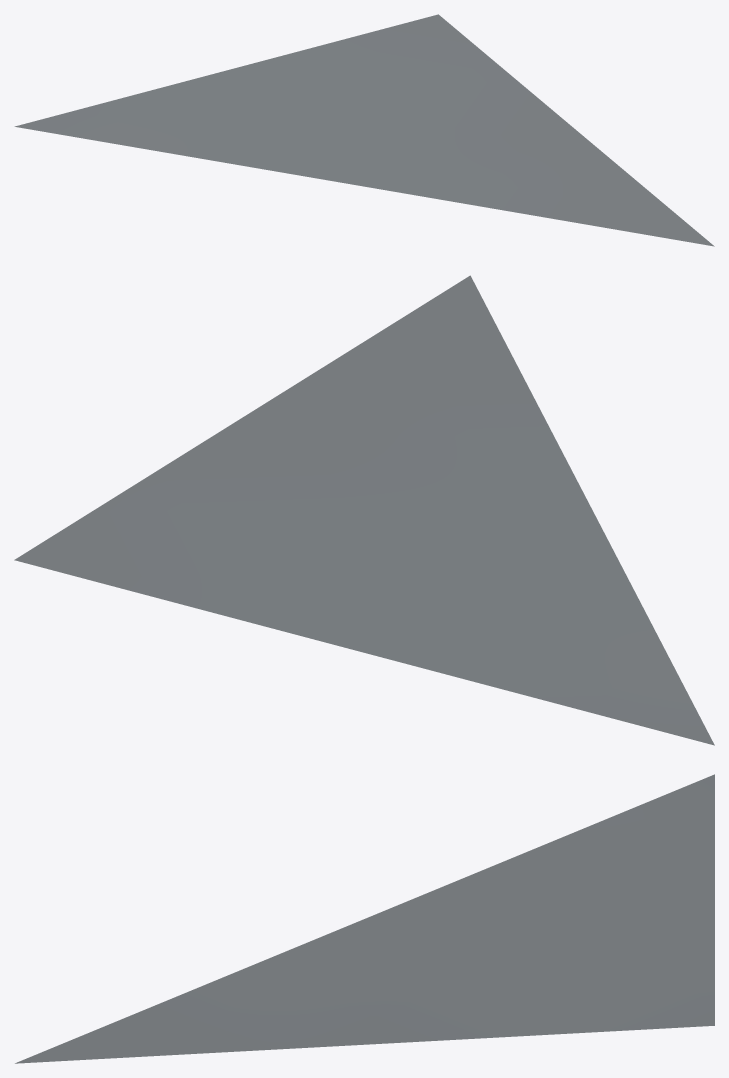
3 views of the same model, one above another, from view 1: azimuth 30°, elevation 25°; view 2: azimuth 150°, elevation 25°; view 3: azimuth 270°, elevation 25° (orthographic). The views are drawn at different scales.
Bounding box in the file's own units: 0.0634 × 0.00426 × 0.0715.
1 material, 1 textured.
